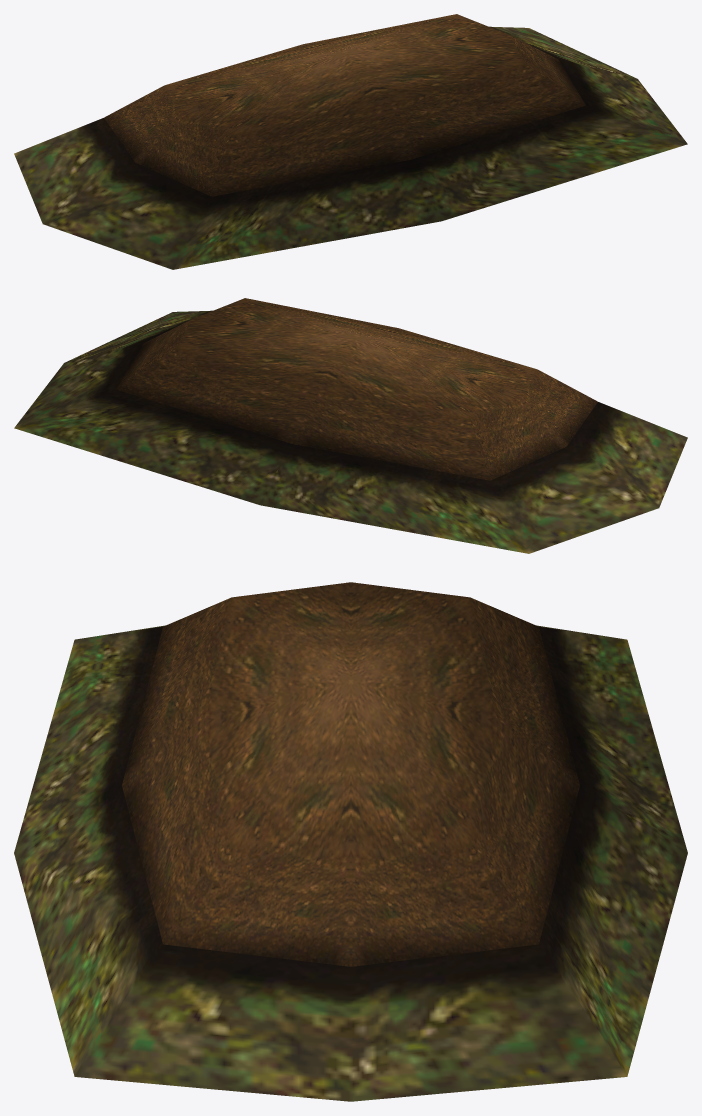
Rendered from tirisfallgravedirtmound02.obj.
3 renders of one model, top to bottom at view 1: azimuth 30°, elevation 25°; view 2: azimuth 150°, elevation 25°; view 3: azimuth 270°, elevation 25°, orthographic. The views are drawn at different scales.
Visible parts, largest first — view 1: TIRISFALLGRAVEDIRTMOUND021, TIRISFALLGRAVEDIRTMOUND020; view 2: TIRISFALLGRAVEDIRTMOUND021, TIRISFALLGRAVEDIRTMOUND020; view 3: TIRISFALLGRAVEDIRTMOUND020, TIRISFALLGRAVEDIRTMOUND021.
Part boxes in pixels (x1,y1,x2,y2): TIRISFALLGRAVEDIRTMOUND021: (14,26,687,269); TIRISFALLGRAVEDIRTMOUND020: (104,14,585,196); TIRISFALLGRAVEDIRTMOUND021: (14,310,687,553); TIRISFALLGRAVEDIRTMOUND020: (116,298,597,480); TIRISFALLGRAVEDIRTMOUND020: (122,582,579,966); TIRISFALLGRAVEDIRTMOUND021: (14,625,687,1101).
Bounding box in the file's own units: 3.34 × 0.5293 × 1.88.
2 materials, 2 textured.
